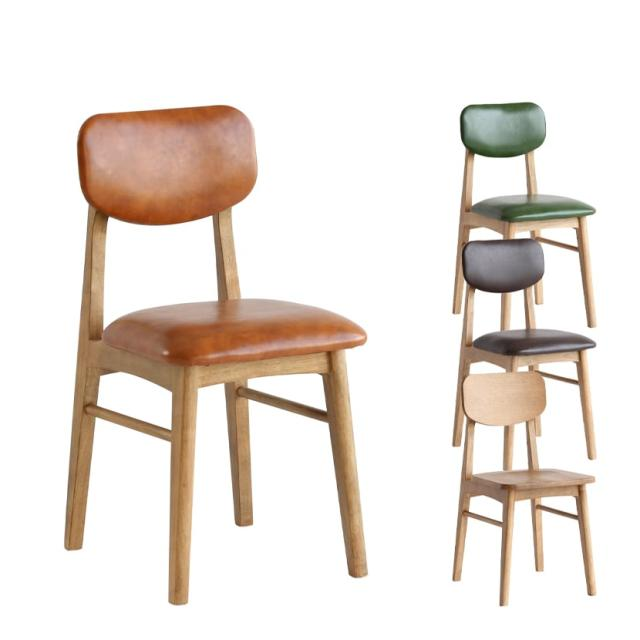chair vintage: (59, 101, 371, 608)
